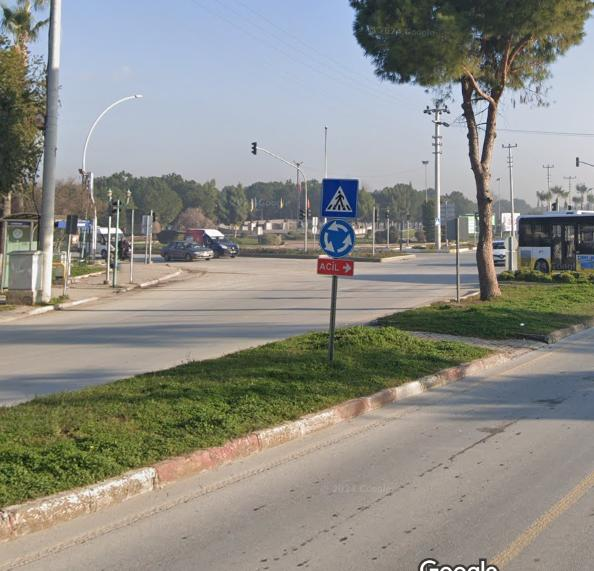crossroads: (320, 220, 355, 258)
